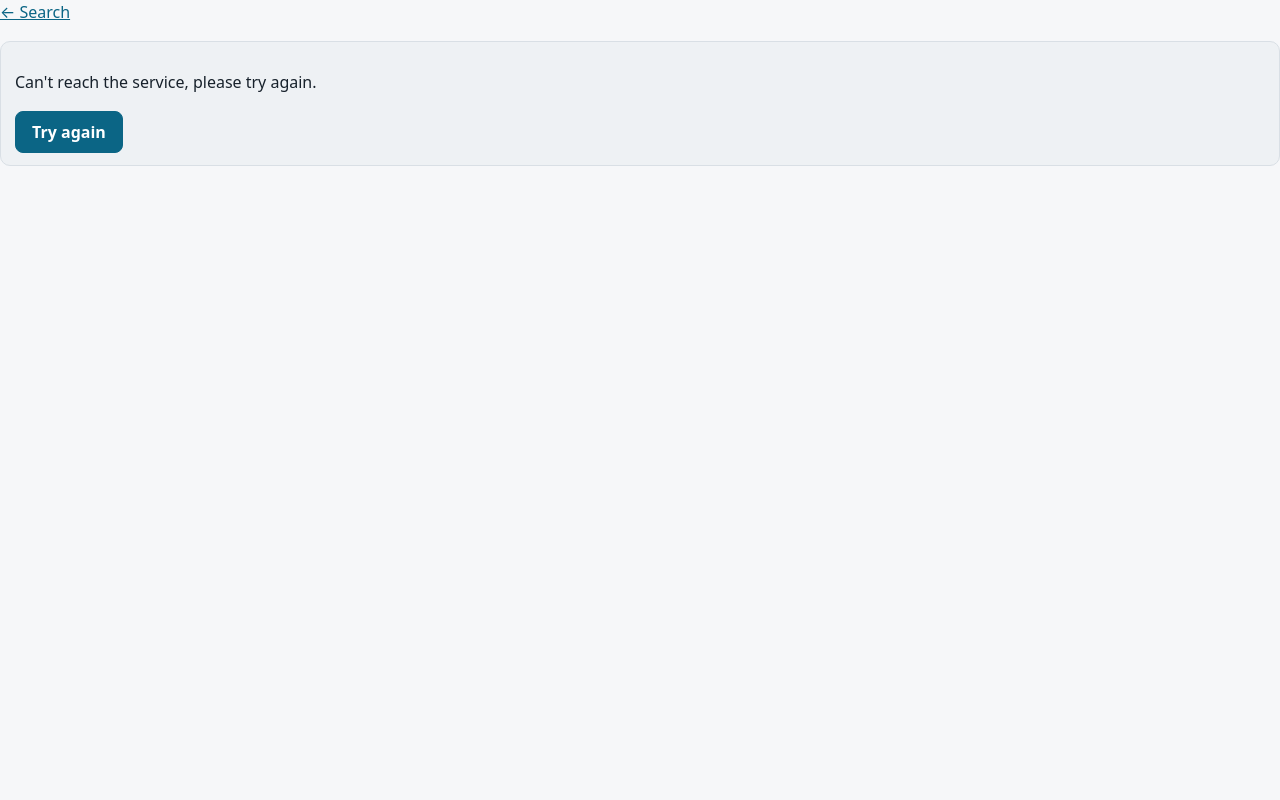
Test: DevicePage (handover §3, §4) › a failed load offers Try again, which loads again
Check: the text "Can't reach the service, please try again." is shown, box [15,71,316,93]
Step 1. Click the button "Try again" → (69, 132), box [15,111,123,153]
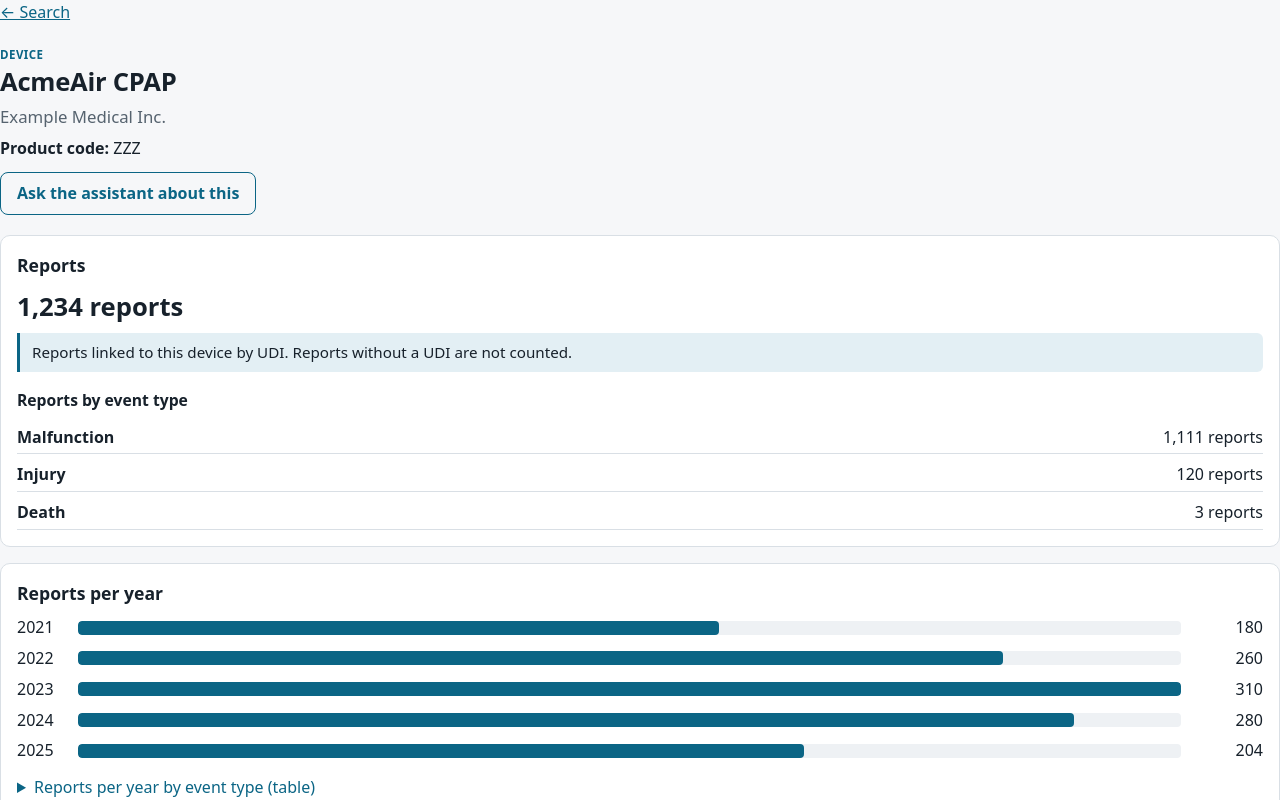
Check: the heading "AcmeAir CPAP" is shown, box [0,64,177,99]
